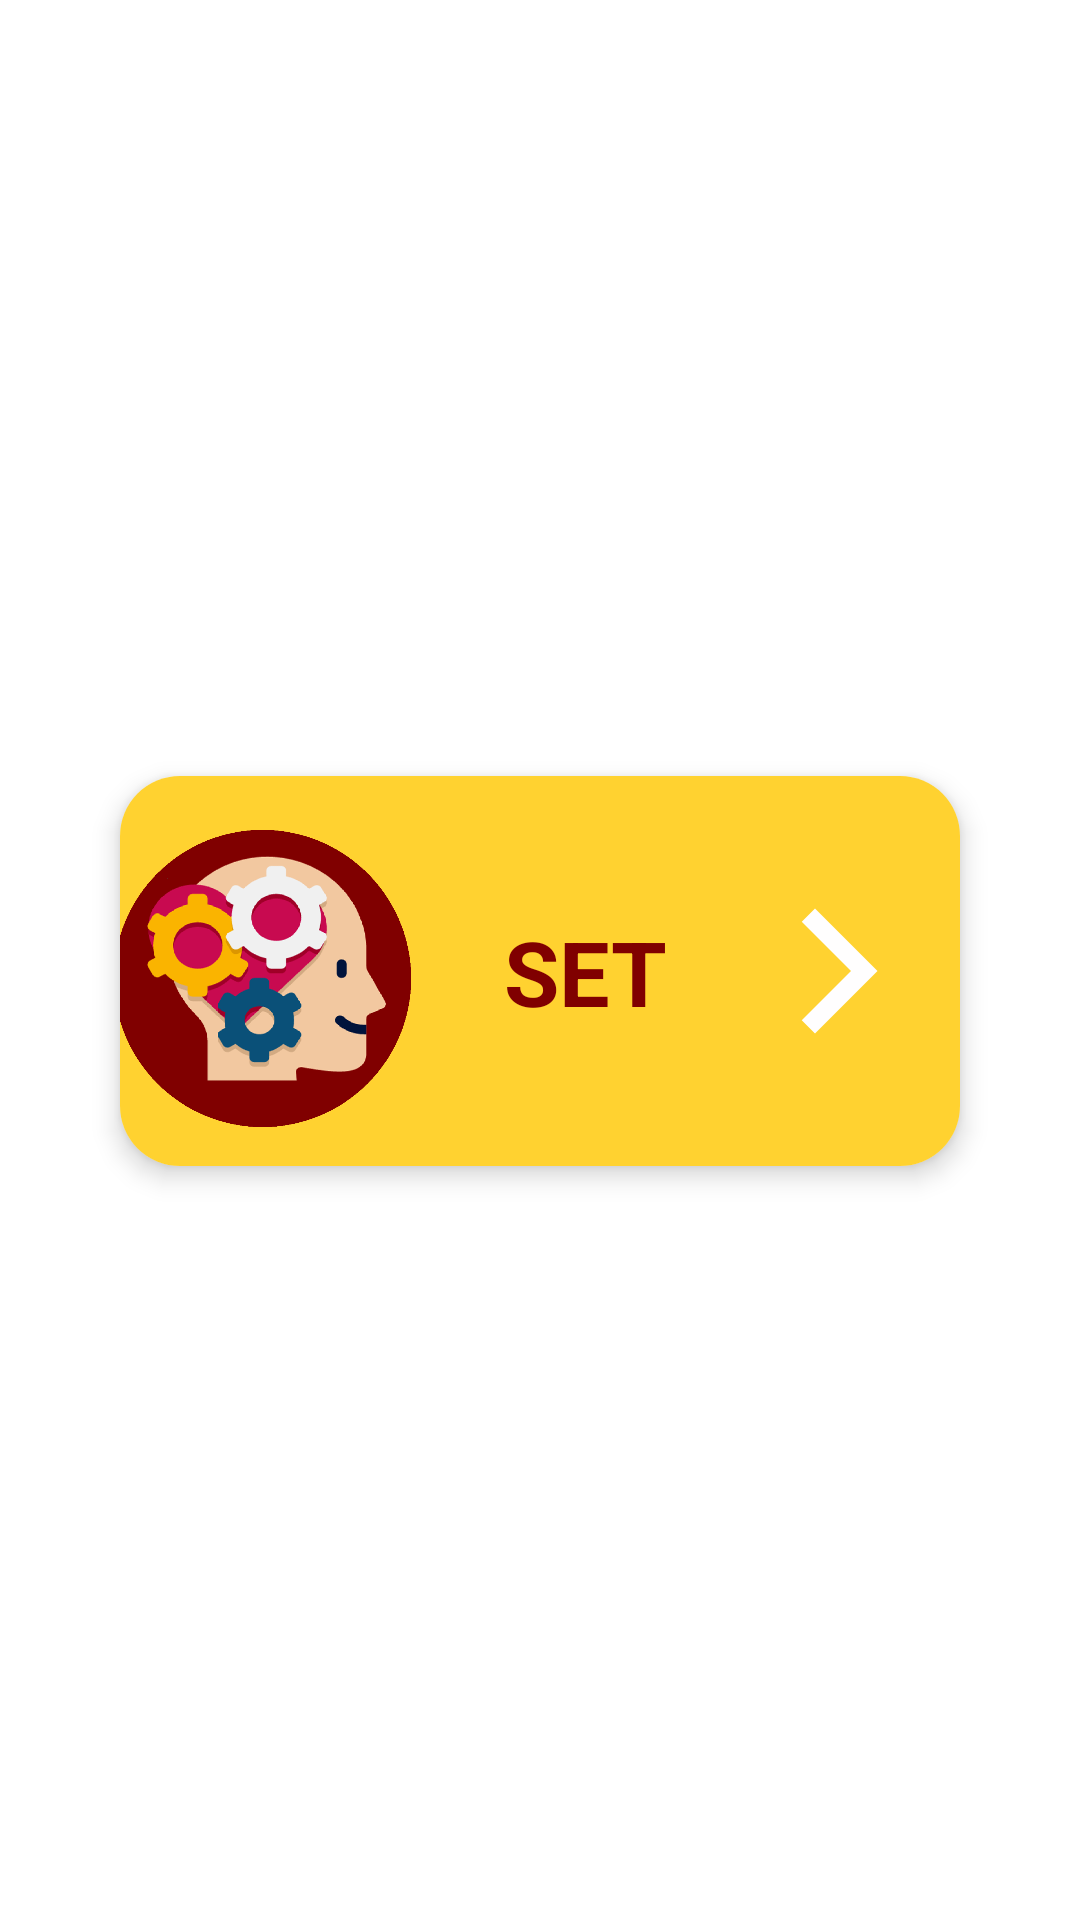

Screen size 1080x1920. Icon name, then its center in pixels as point (x, y):
arrow forward: point (840, 971)
